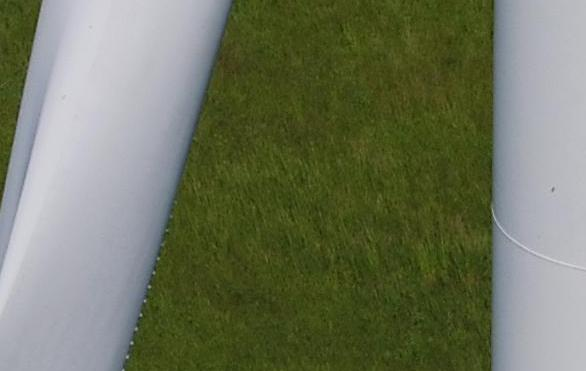damage: (551, 185, 555, 194)
